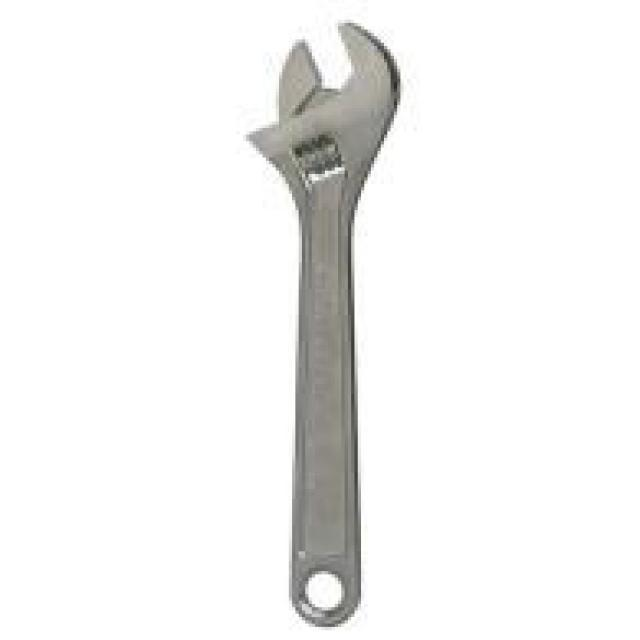wrench: (240, 13, 408, 634)
